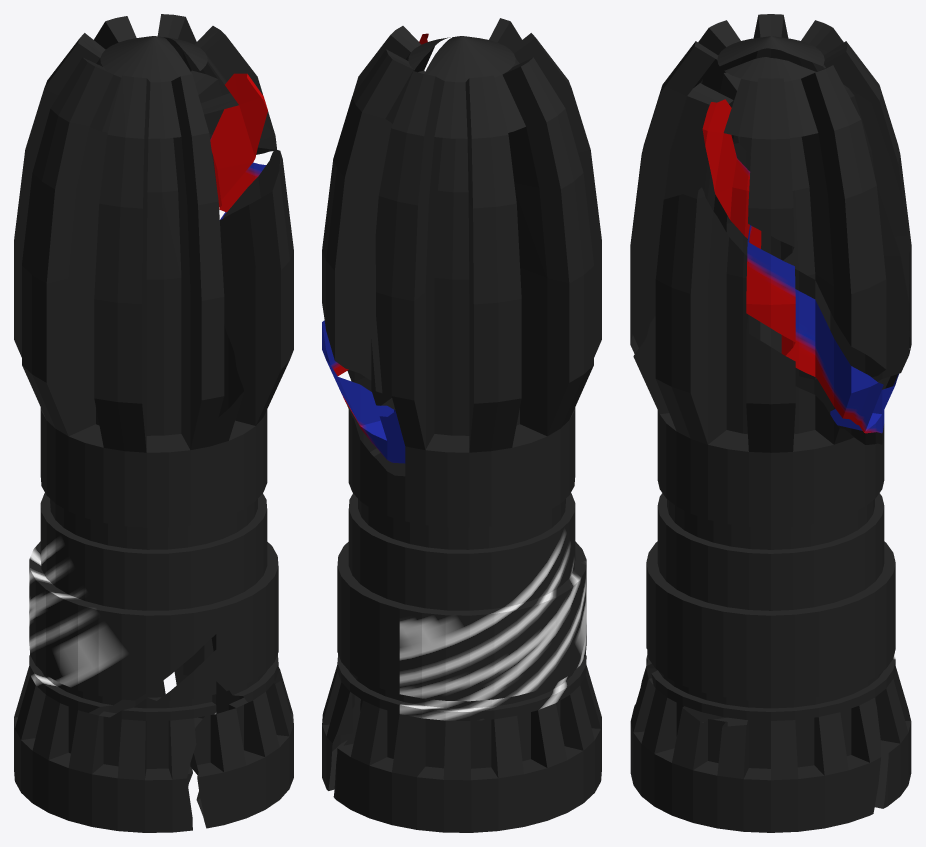
The model's file is EMP.OBJ.
3 views of the same model, side by side, from view 1: azimuth 30°, elevation 25°; view 2: azimuth 150°, elevation 25°; view 3: azimuth 270°, elevation 25° (orthographic).
Parts seen in each view (by area): view 1: Group61861; view 2: Group61861; view 3: Group61861.
Part boxes in pixels (left/top/right/bottom): Group61861: left=14, top=14, right=293, bottom=832; Group61861: left=322, top=18, right=601, bottom=832; Group61861: left=630, top=14, right=911, bottom=832.
Size of the model in its own units: 2.48 by 7.18 by 2.48.
